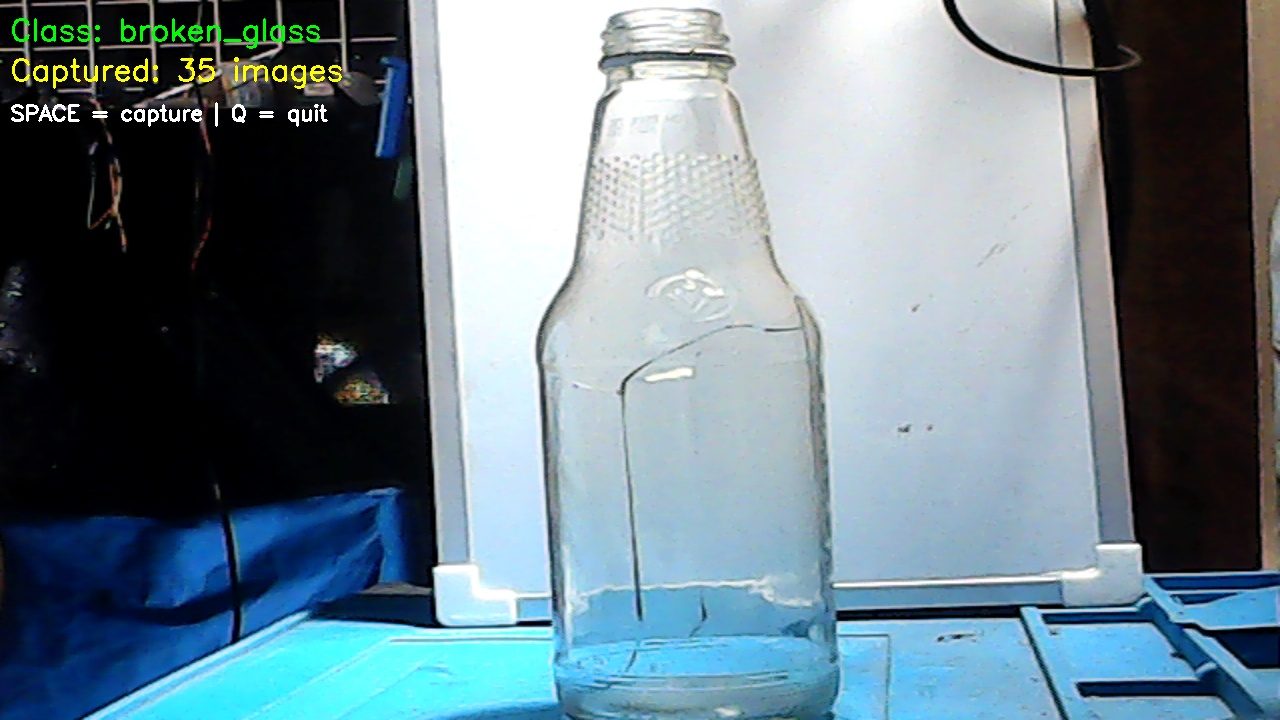broken_glass: (504, 8, 867, 705)
